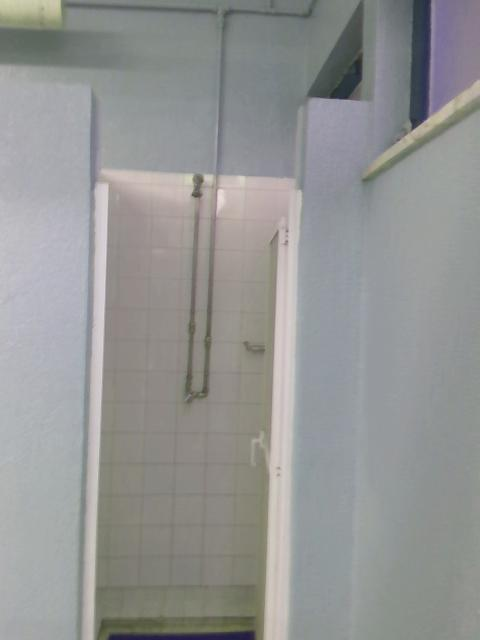open_door: (78, 83, 306, 639)
